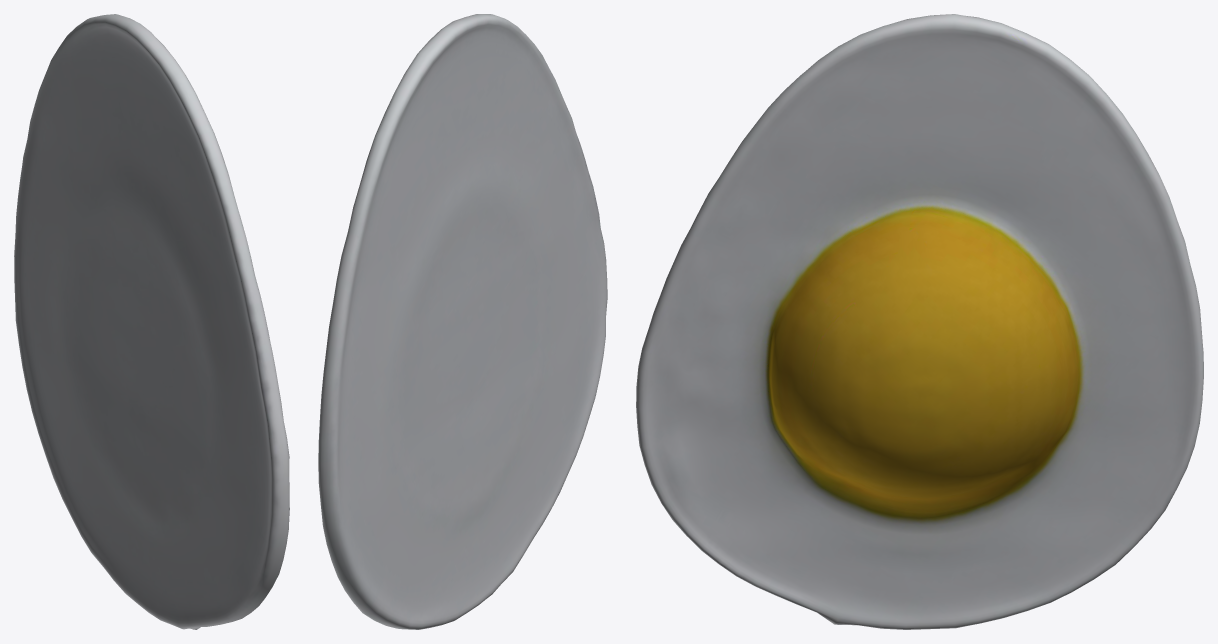
Rendered from 38a865e87120_Stylized_sunny_side.fbx.
The picture shows the model from 3 angles, left to right: view 1: azimuth 30°, elevation 25°; view 2: azimuth 150°, elevation 25°; view 3: azimuth 270°, elevation 25°; orthographic projection. The views are drawn at different scales.
Parts seen in each view (by area): view 1: mesh; view 2: mesh; view 3: mesh.
Part boxes in pixels (x1=…): mesh: x1=14, y1=14, x2=289, y2=629; mesh: x1=318, y1=14, x2=607, y2=629; mesh: x1=636, y1=14, x2=1203, y2=629.
Bounding box in the file's own units: 19.31 × 100 × 83.93.
